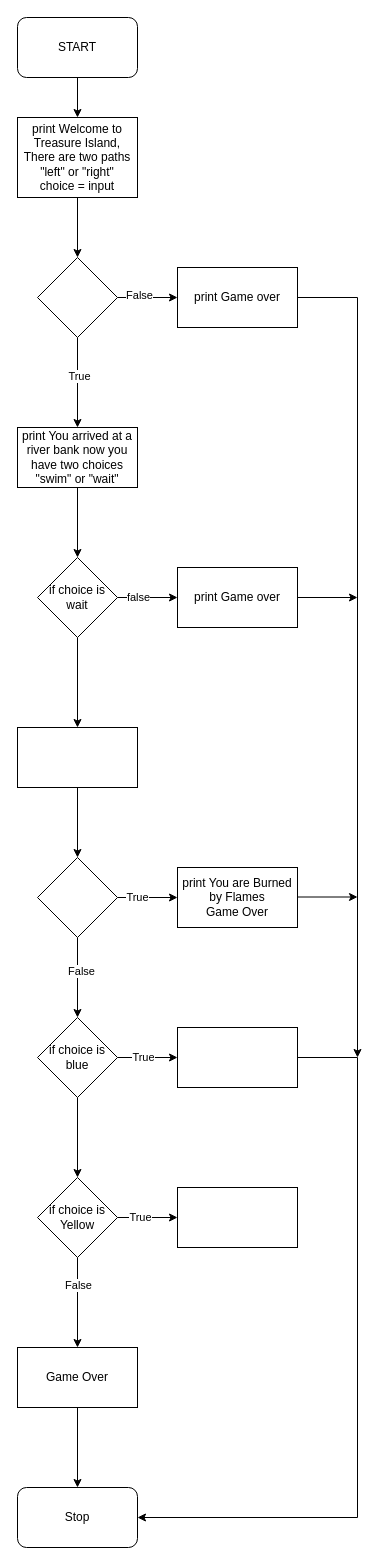
Image size: 383x1565. Some labels were removed from this diagram. Each missing label, with the centre of its shape:
if choice is "left": [77,297]
if choice is red: [77,897]
print Congratulations You have find the treasure: [237,1217]
print There are three doors in front of you Red,Blue,Yellow choose one of these: [77,757]
print You are eaten by monsters Game Over: [237,1057]
